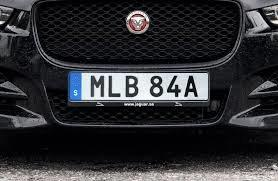license-plates: (69, 73, 209, 102)
